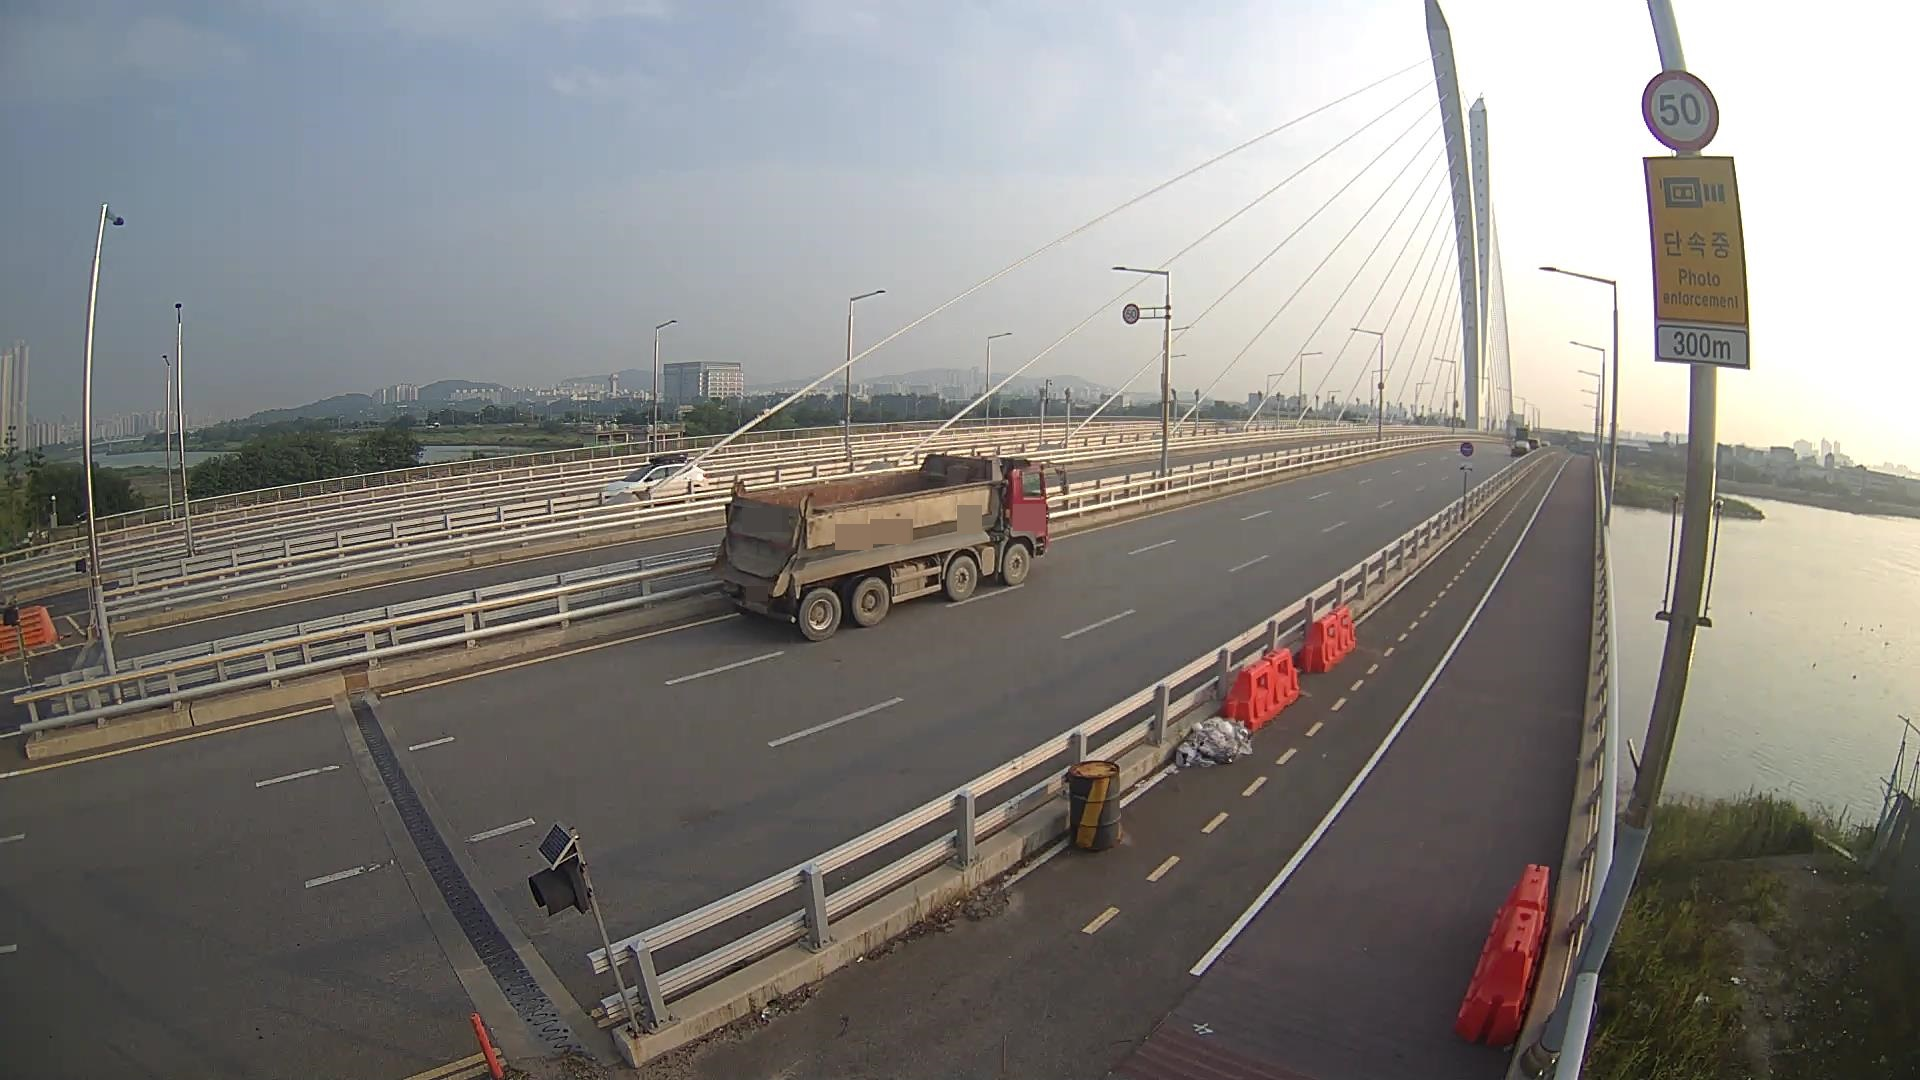정상차량: (704, 447, 1071, 644)
